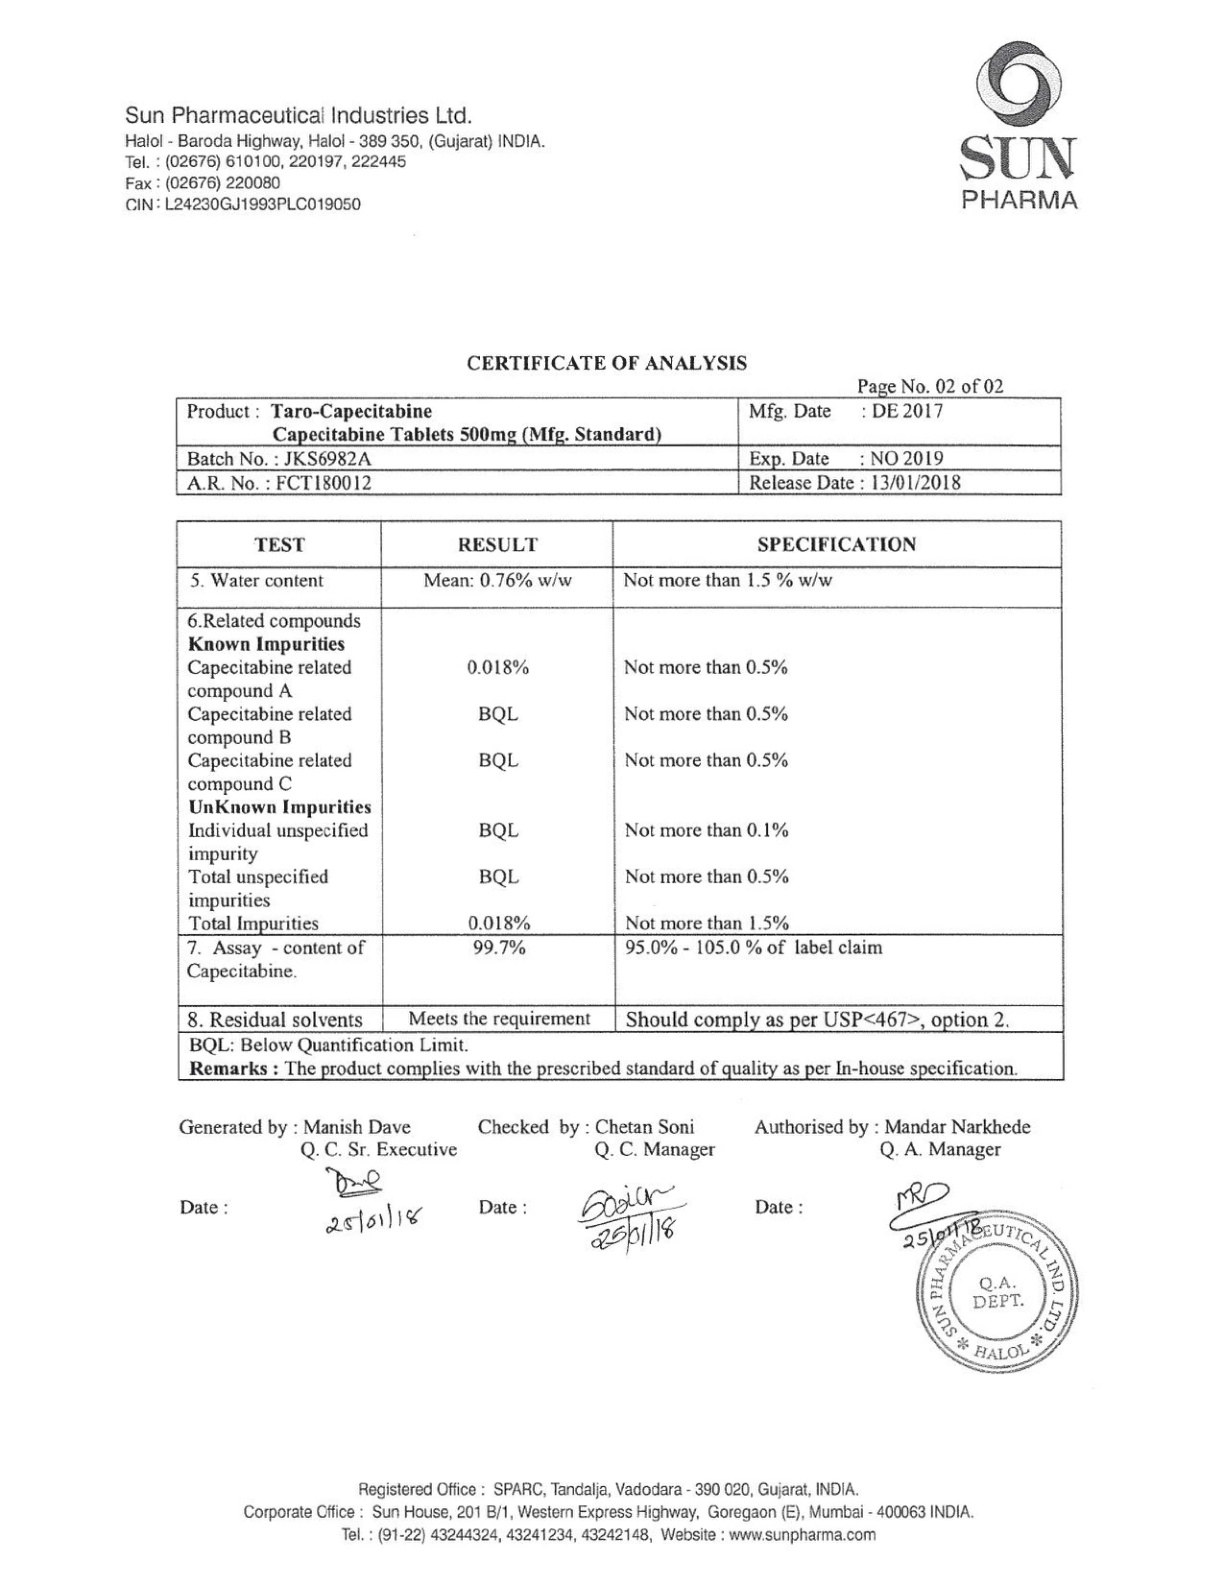full_lined: (174, 397, 1062, 496)
merged_cells: (174, 518, 1065, 1082)
